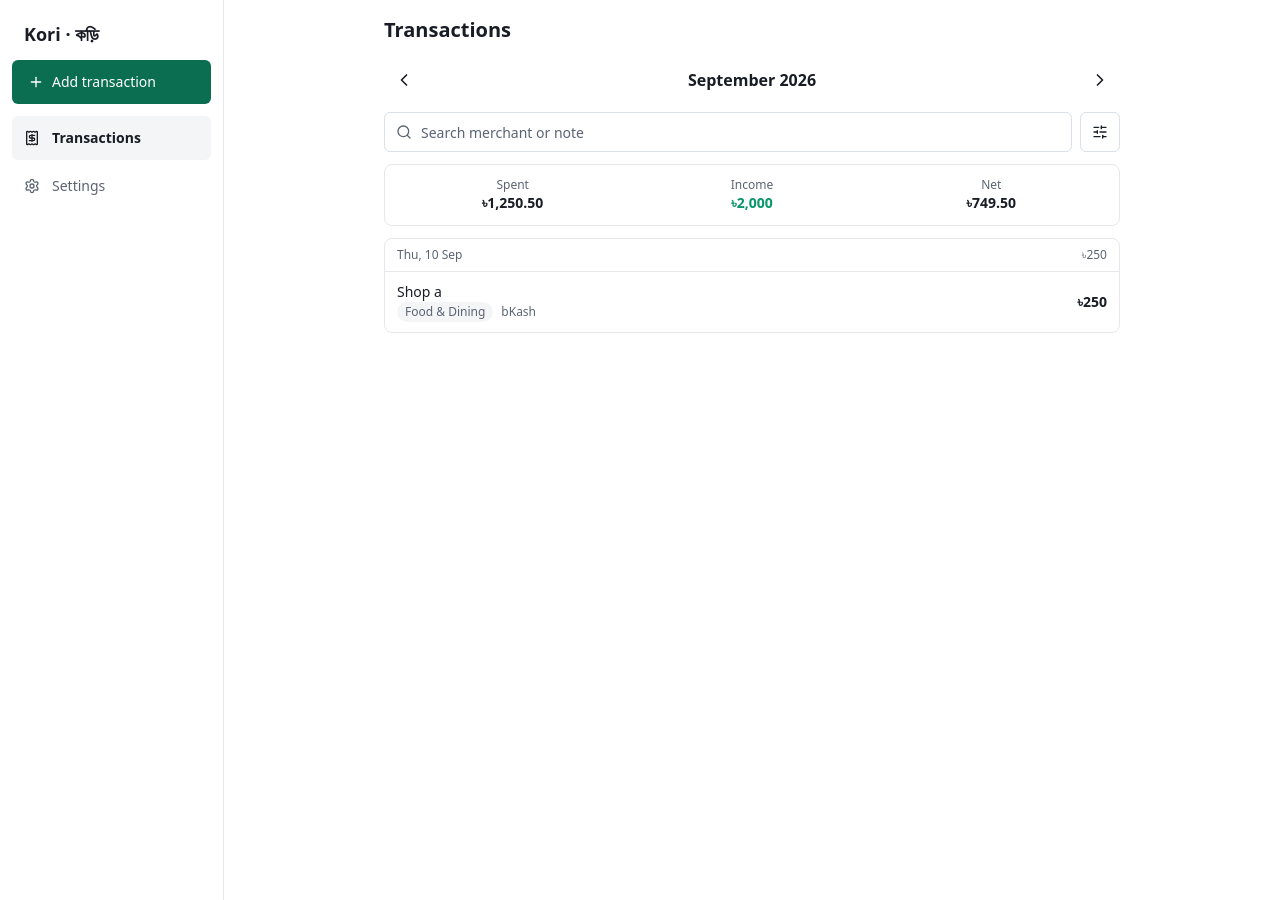
Test: transactions list › applies filters as removable chips
expect the text "Shop a" is shown: met, box [397,282,442,301]
Step 1. Click the button named "Filters" → point(1100, 132), box [1080,112,1120,152]
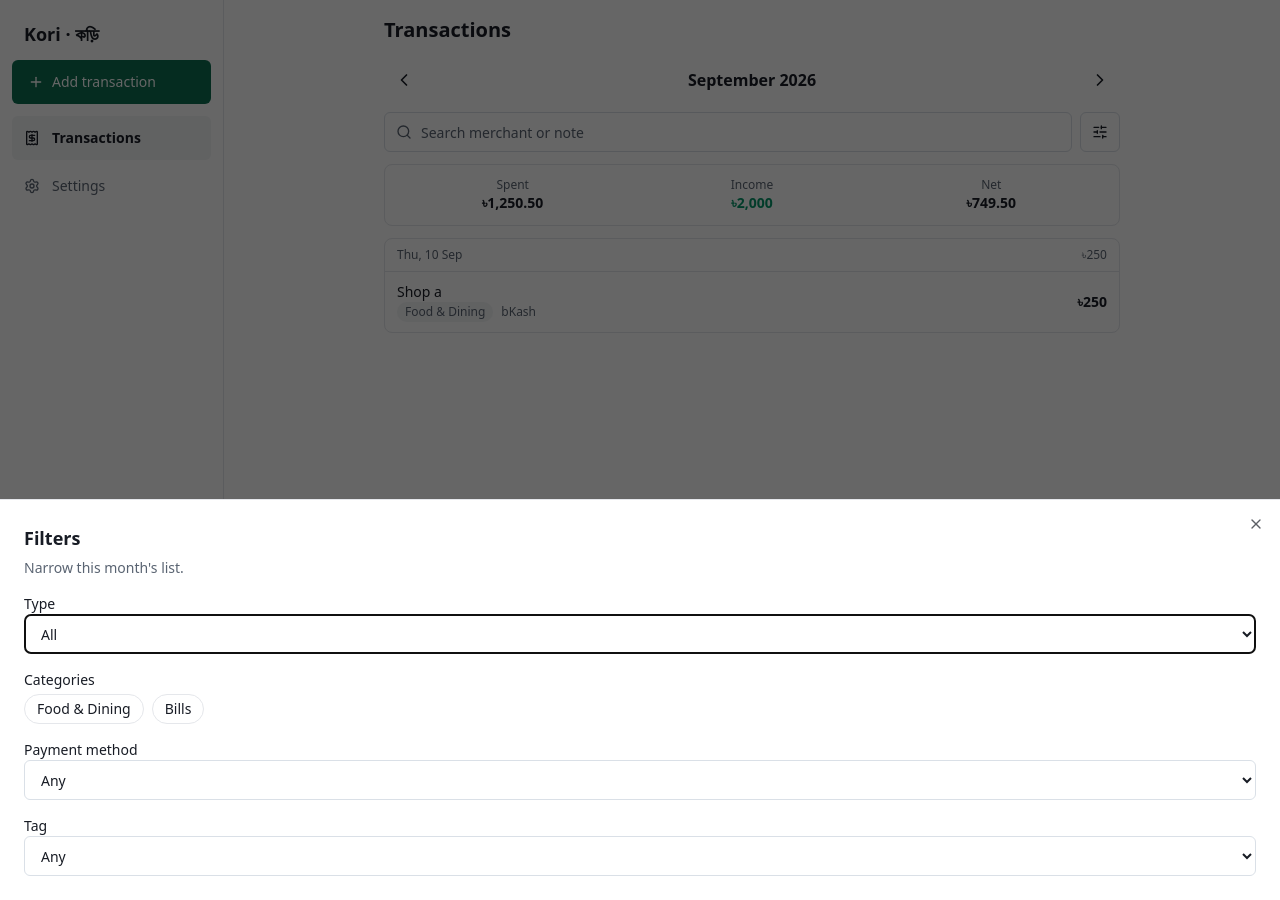
Step 2. Select "Income" in the dropdown labelled "Type" → point(640, 634), box [24,614,1256,654]
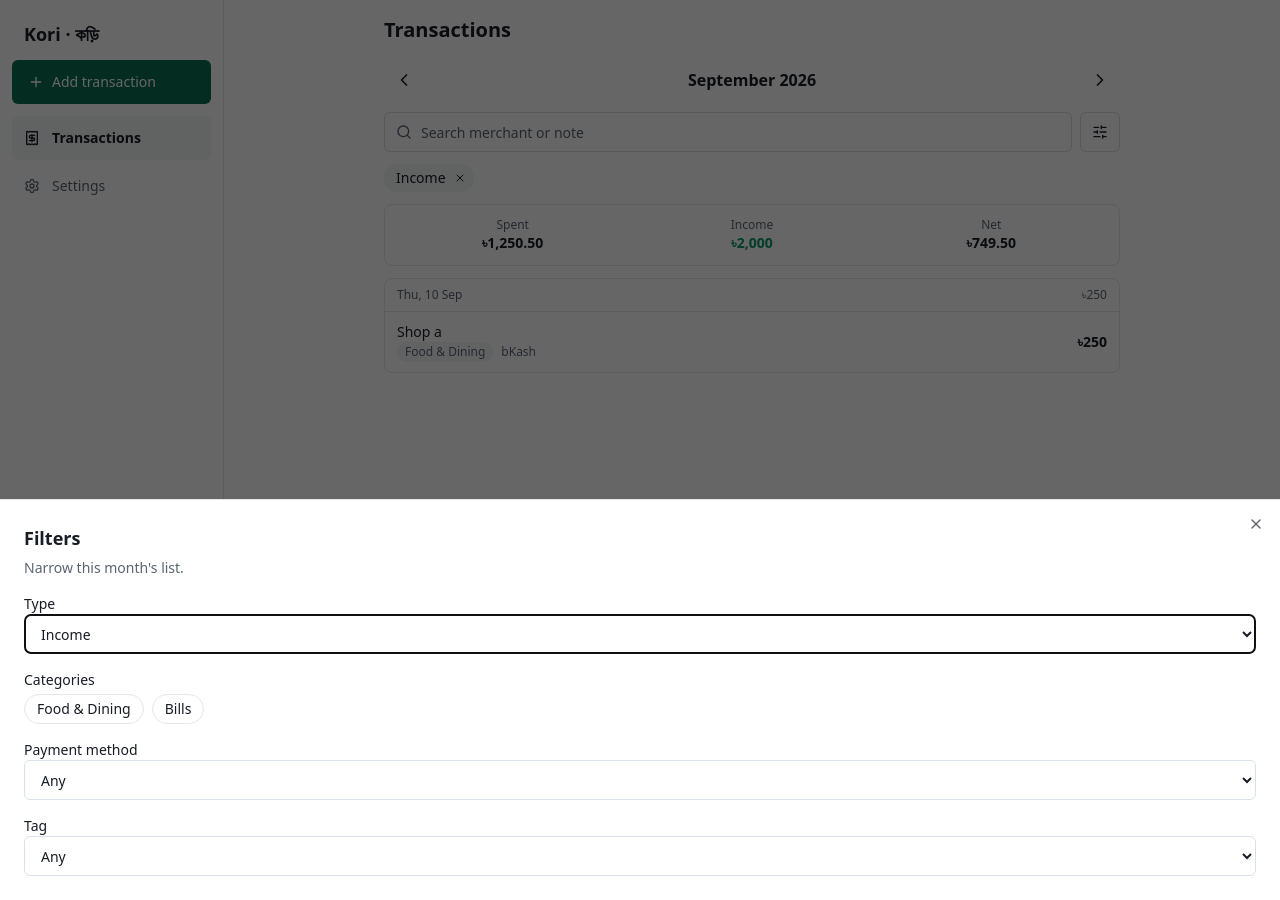
Step 3. Click the button "Bills" → point(178, 709), box [152,694,204,724]
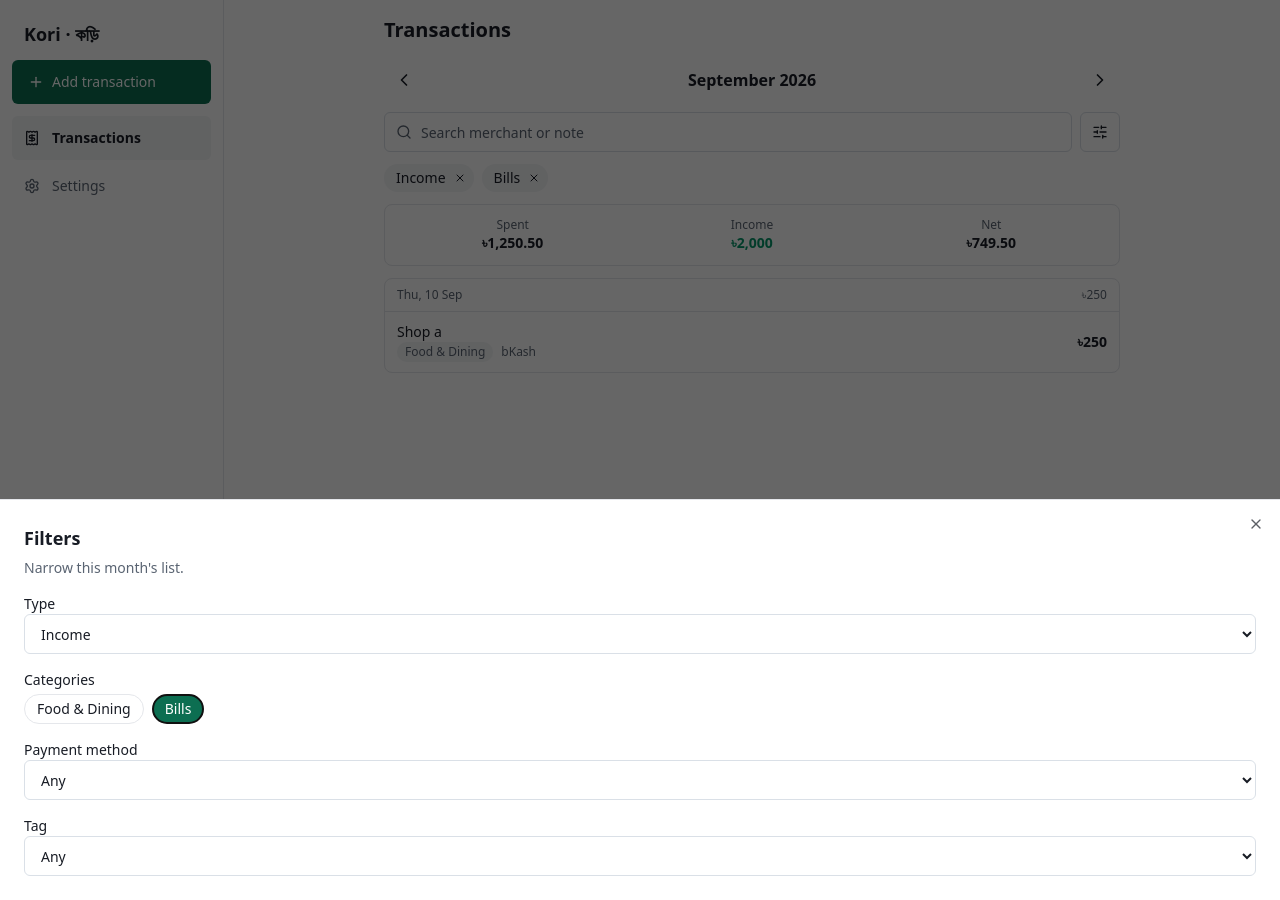
Step 4. Press Escape
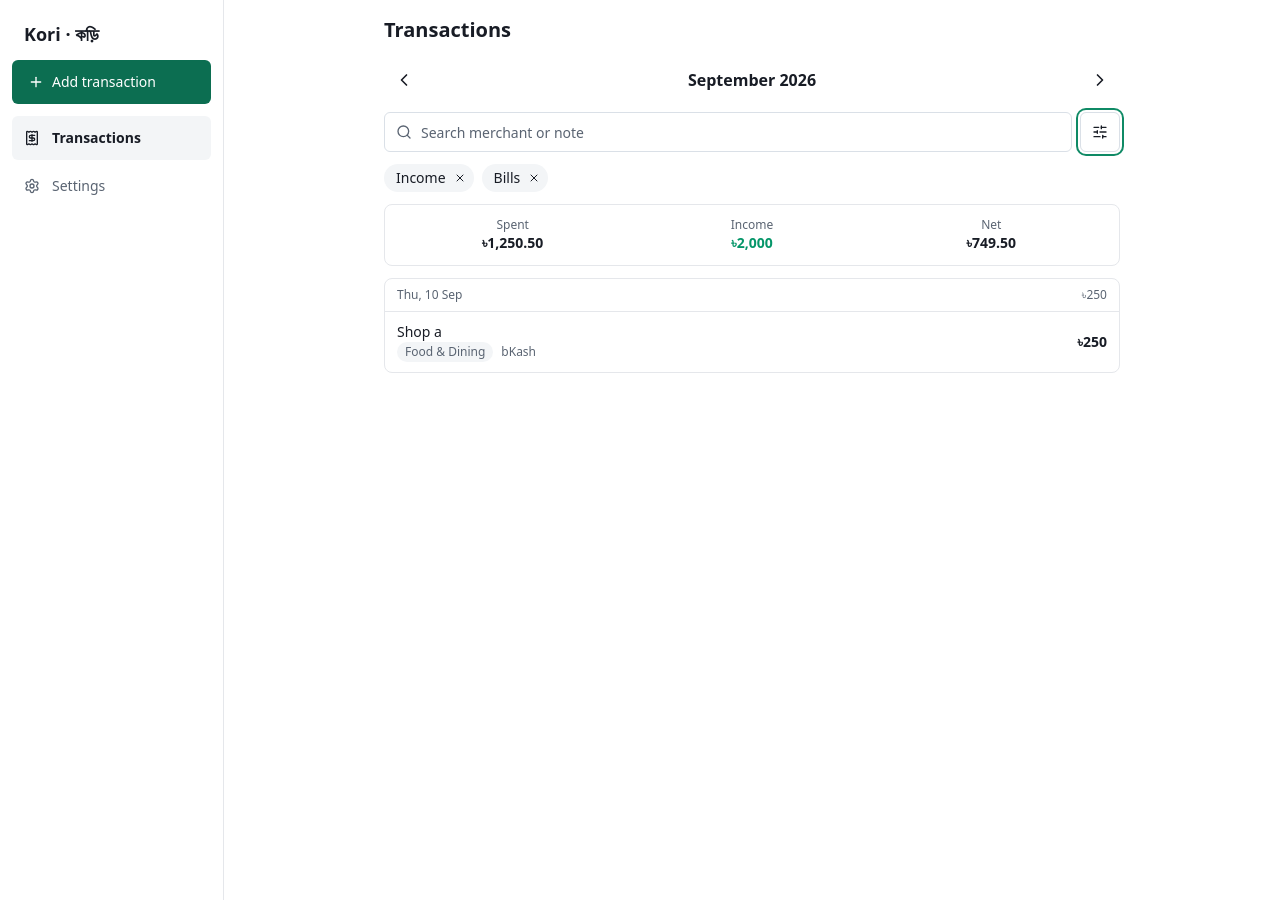
Step 5. Click the button named "Remove filter Bills" → point(534, 178), box [524,168,544,188]
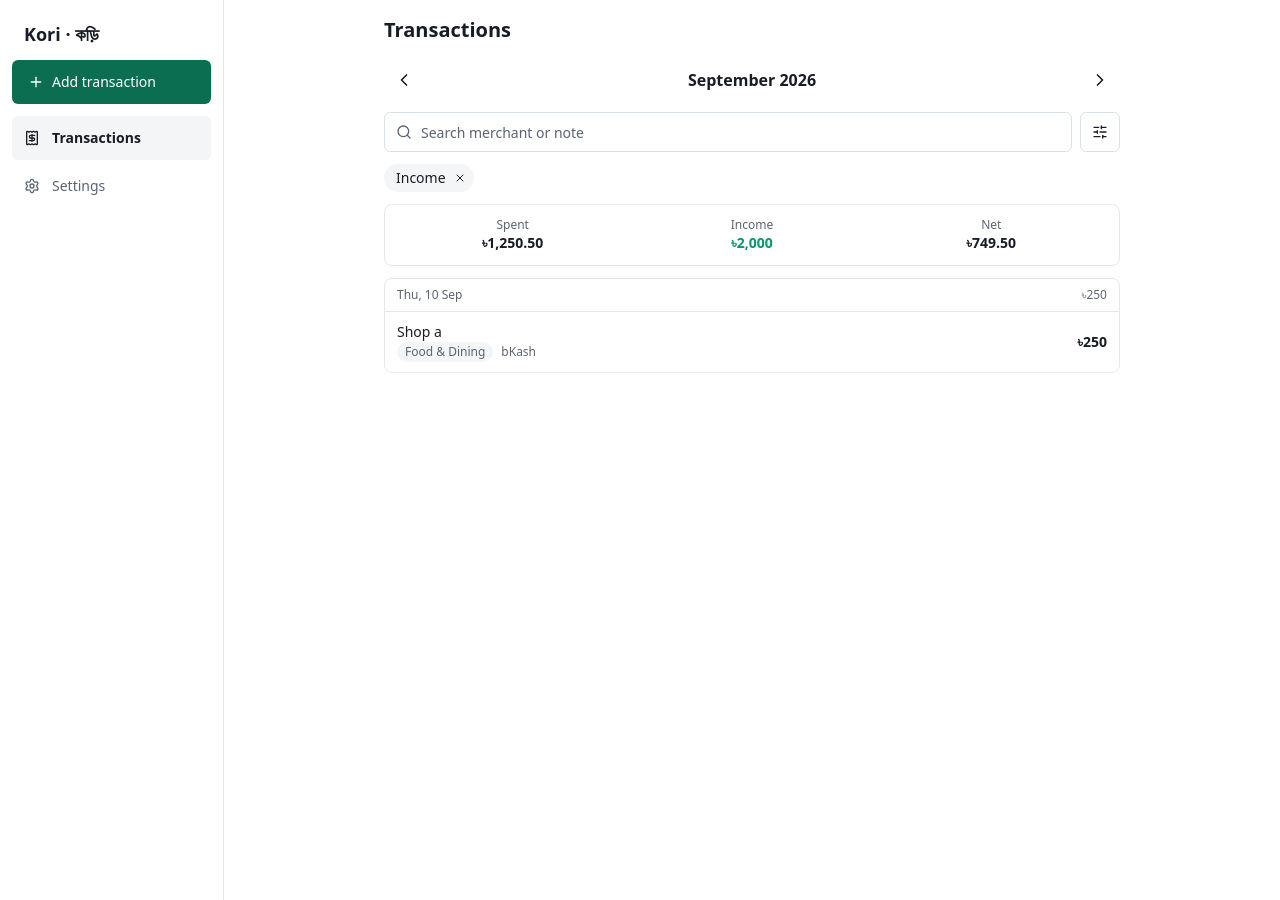
expect the text "Bills" is gone: met
